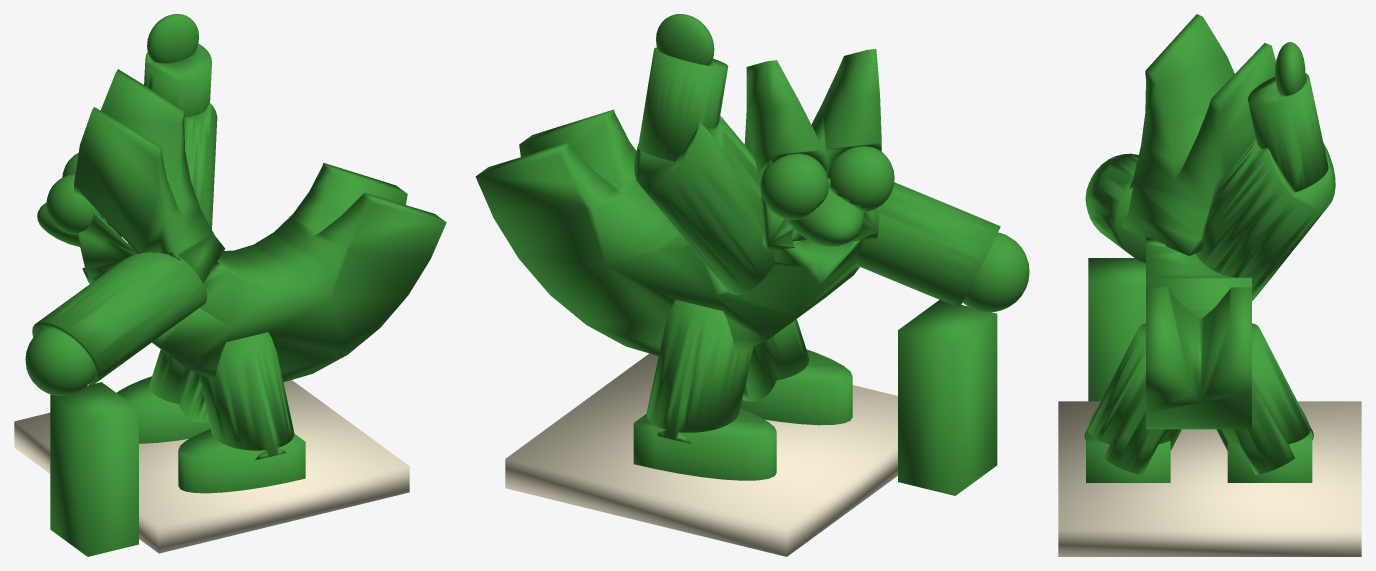
File: crew_ops_officer.glb
3 renders of one model, left to right at view 1: azimuth 30°, elevation 25°; view 2: azimuth 150°, elevation 25°; view 3: azimuth 270°, elevation 25°, orthographic. The views are drawn at different scales.
Parts seen in each view (by area): view 1: figura, basetta; view 2: figura, basetta; view 3: figura, basetta.
Boxes of the visible parts, <box> form: figura: <box>25,14,446,556</box>; basetta: <box>14,380,409,553</box>; figura: <box>475,14,1029,495</box>; basetta: <box>505,353,897,556</box>; figura: <box>1084,14,1335,482</box>; basetta: <box>1058,401,1361,556</box>.
Bounding box in the file's own units: 0.0341 × 0.0325 × 0.02.
